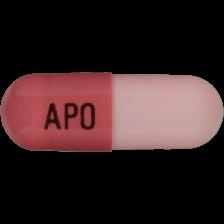63187-070: (0, 0, 224, 224)
